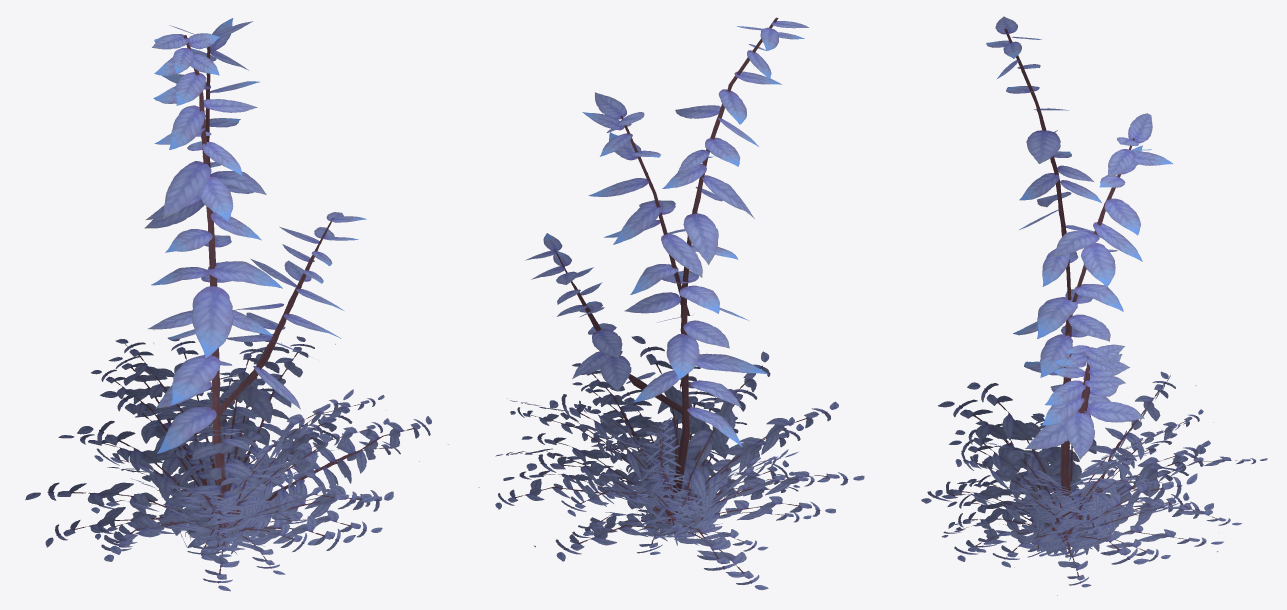
File: SM_Com_Veg_03AS.fbx
3 views of the same model, side by side, from view 1: azimuth 30°, elevation 25°; view 2: azimuth 150°, elevation 25°; view 3: azimuth 270°, elevation 25° (orthographic). The views are drawn at different scales.
Parts seen in each view (by area): view 1: SM_Com_Veg_03AS.mo; view 2: SM_Com_Veg_03AS.mo; view 3: SM_Com_Veg_03AS.mo.
Part boxes in pixels (box(x1,y1,x2,y2)): SM_Com_Veg_03AS.mo: box(25, 18, 448, 591); SM_Com_Veg_03AS.mo: box(478, 17, 864, 590); SM_Com_Veg_03AS.mo: box(921, 16, 1267, 595).
Size of the model in its own units: 1.4 by 2.03 by 1.38.
